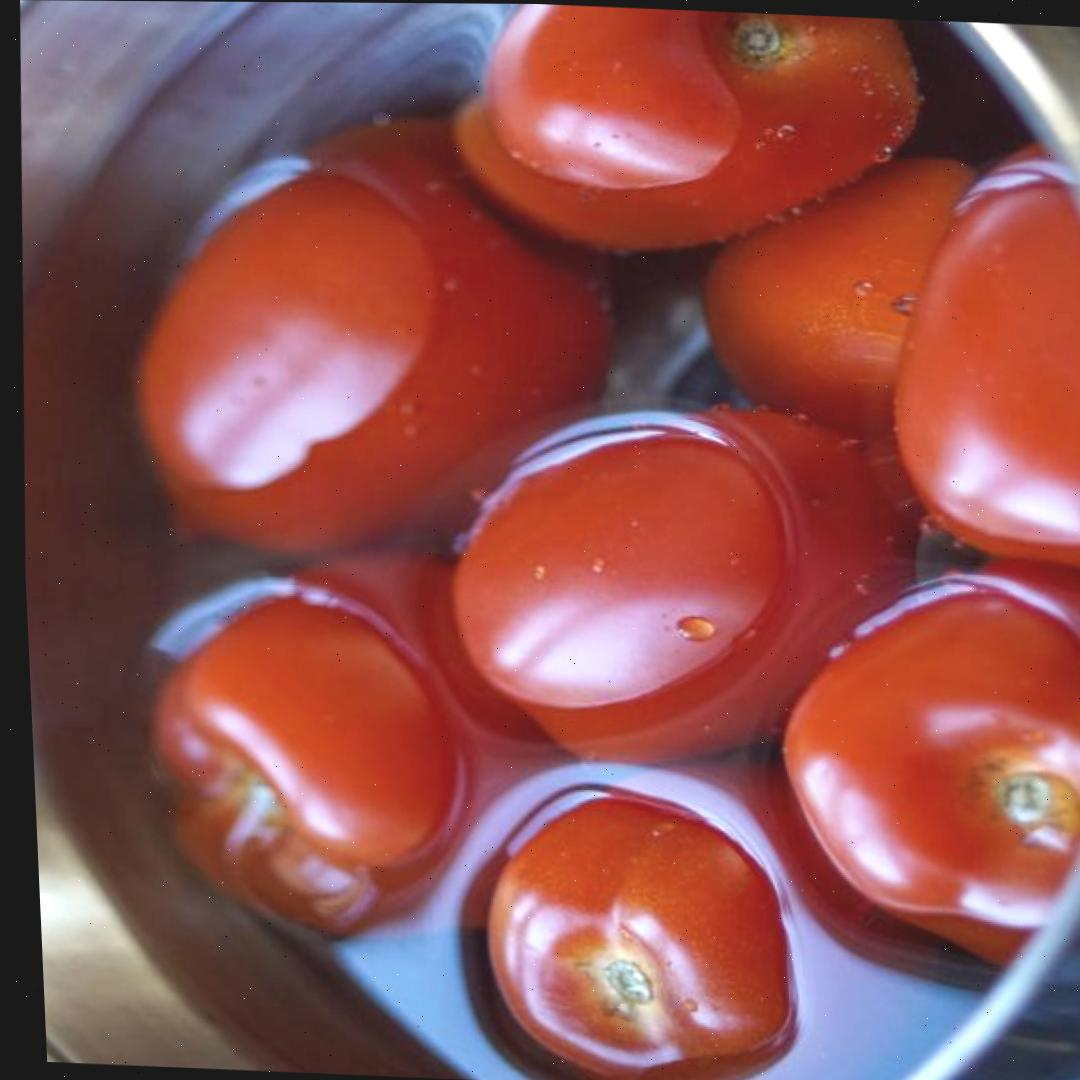matang: (123, 105, 635, 571), (136, 537, 688, 953), (440, 391, 934, 779), (454, 3, 935, 263)
